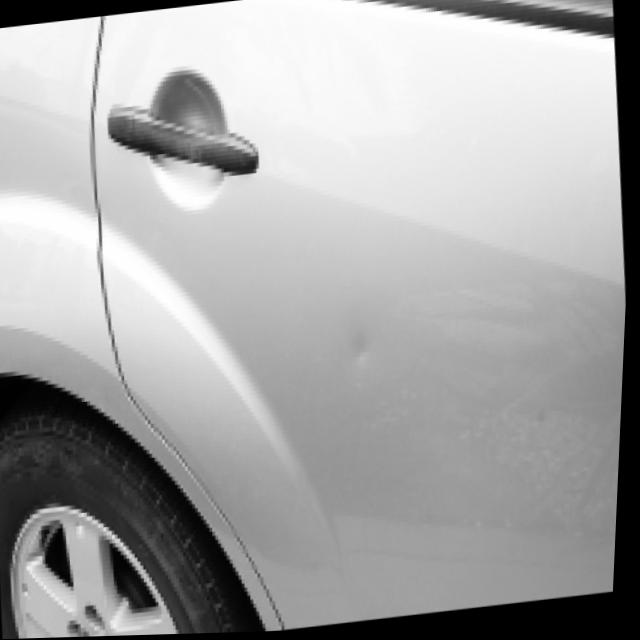Dent: (327, 315, 409, 400)
